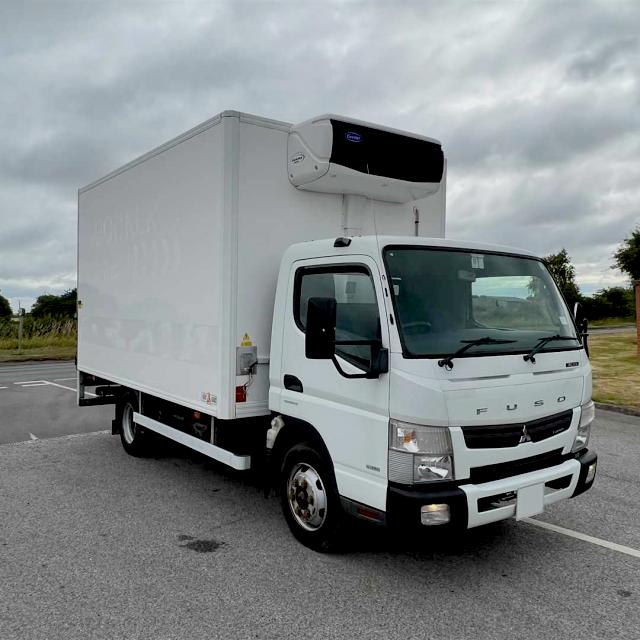truck: (77, 111, 599, 548)
